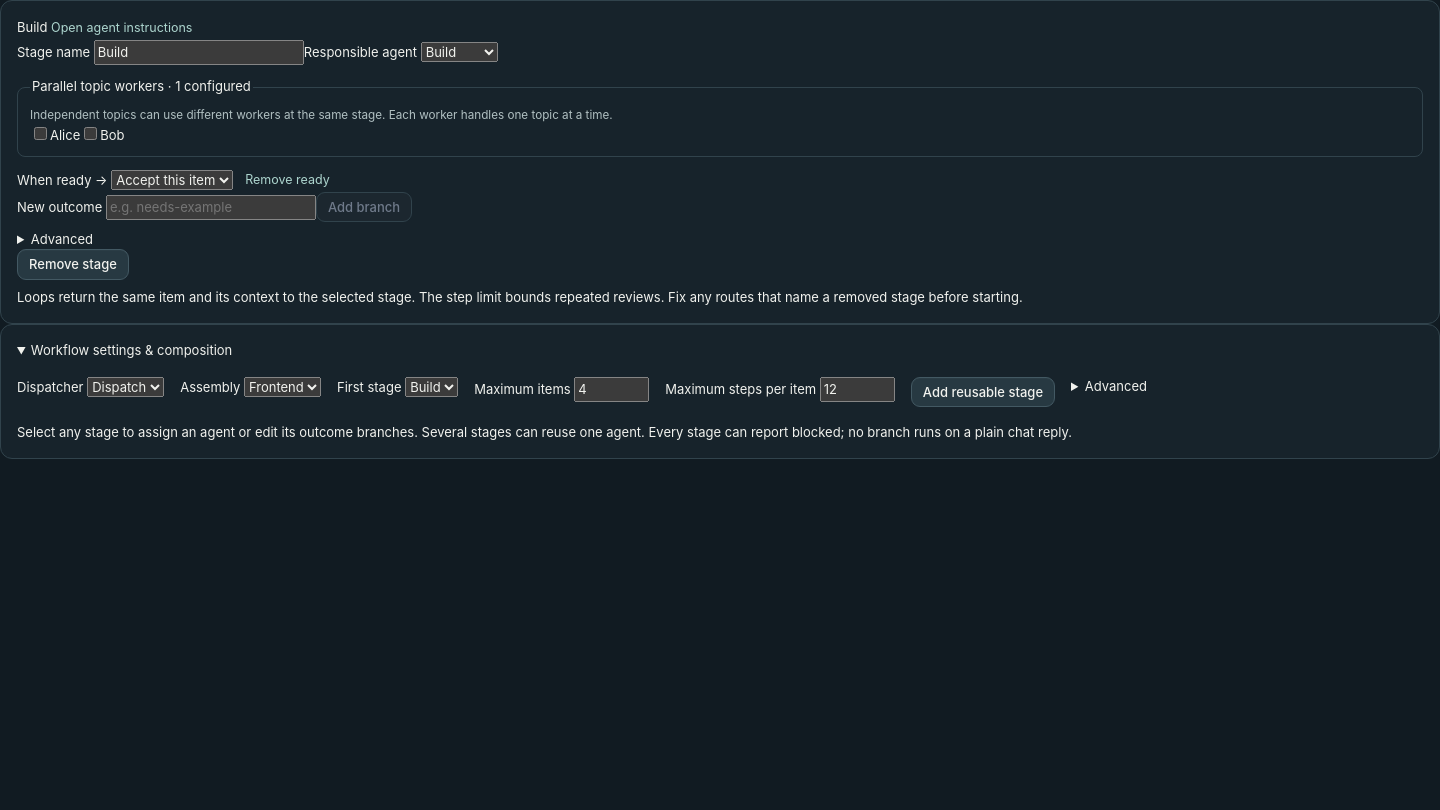
Scenario: keeps a review panel at two reviewers or more
Click the heading "Advanced" below "New outcome" at [62, 239], box [31, 231, 93, 247]
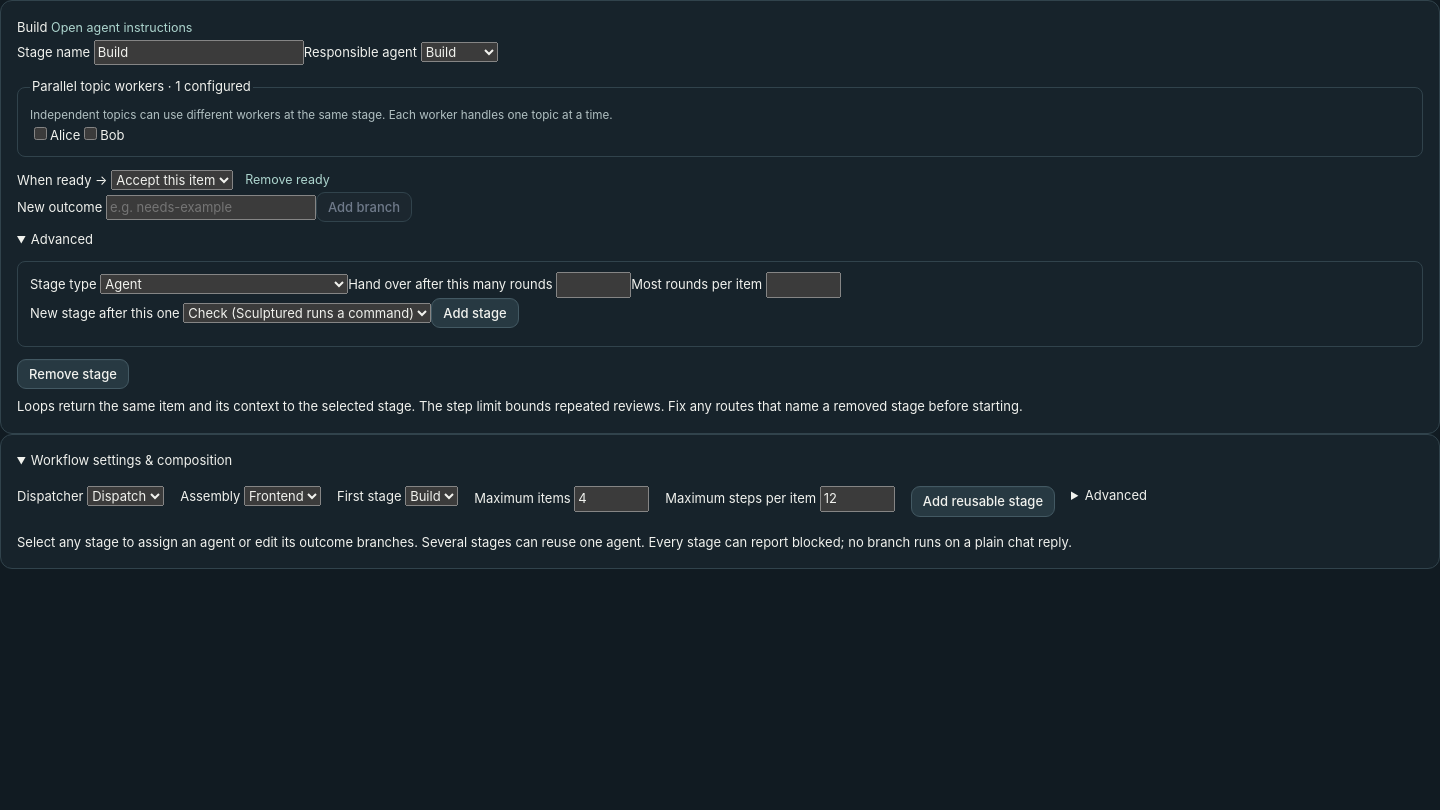
Select "Review panel" in the dropdown labelled "Stage type" at [224, 284], box [100, 274, 348, 294]
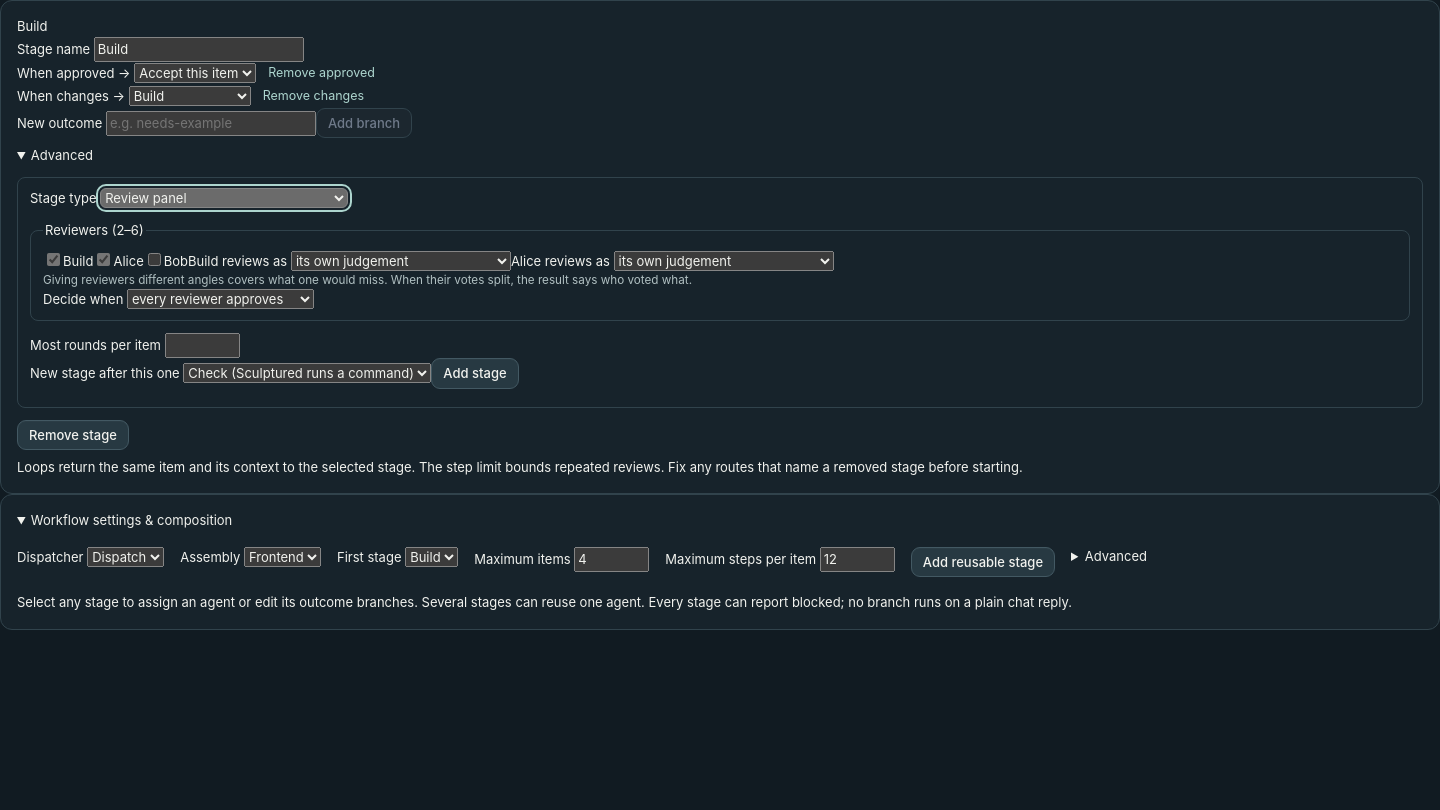
Now the checkbox labelled "Build" is disabled, box [47, 253, 60, 266]
